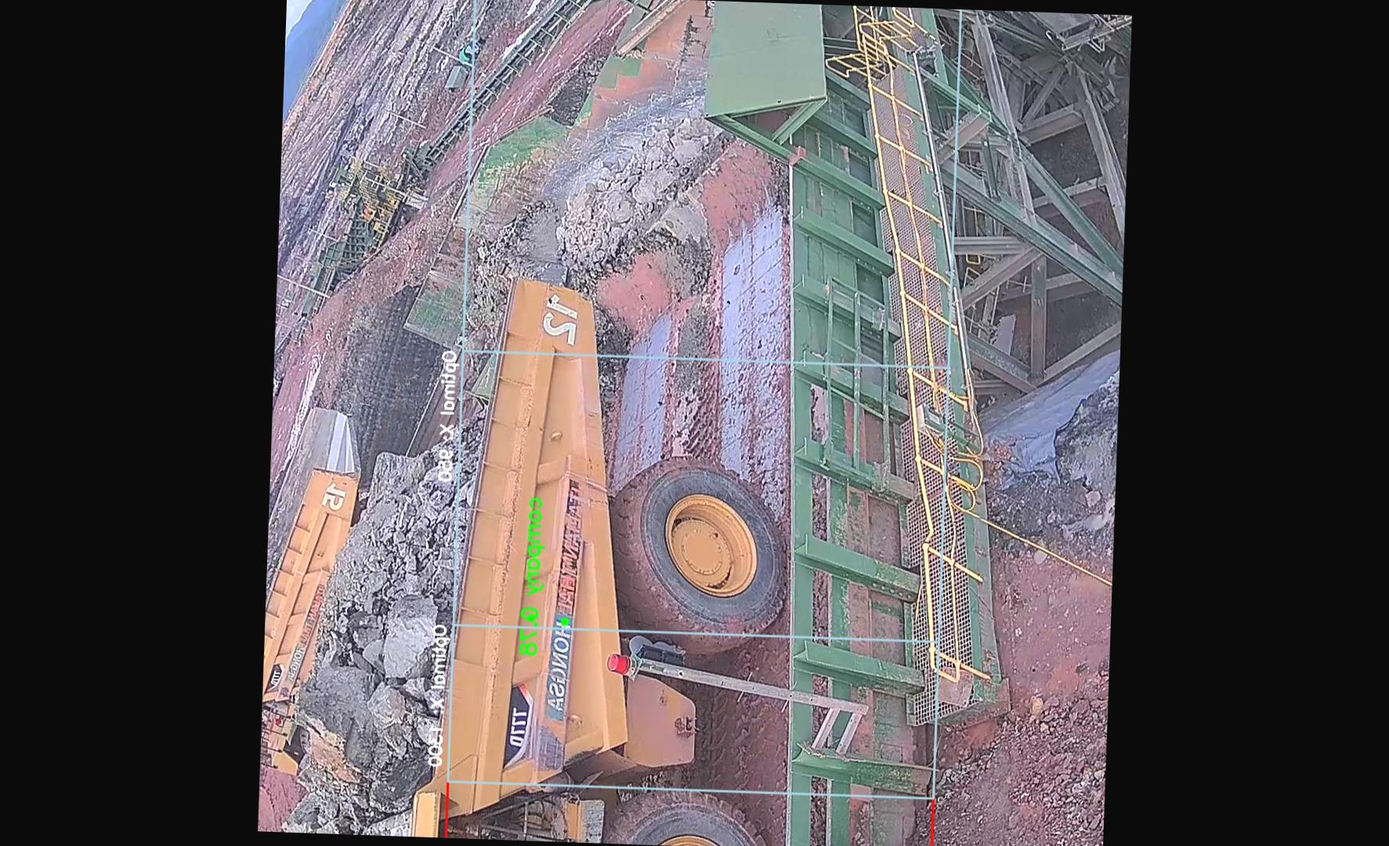company: (540, 465, 599, 731)
full_load: (294, 495, 477, 825)
mining_truck: (269, 262, 798, 846)
tail_number: (534, 286, 588, 352)
truck_size: (499, 678, 532, 774)
